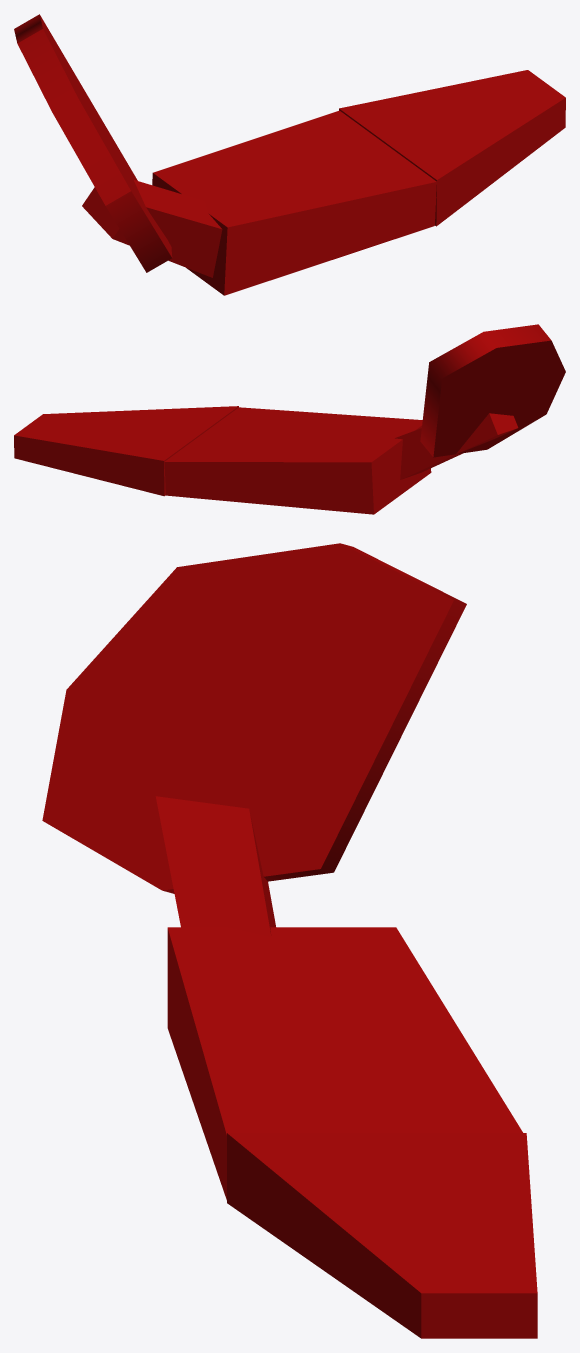
File: SM_Prop_Whale_Skeleton_01_Fin_02_Collision.glb
The picture shows the model from 3 angles, top to bottom: view 1: azimuth 30°, elevation 25°; view 2: azimuth 150°, elevation 25°; view 3: azimuth 270°, elevation 25°; orthographic projection. The views are drawn at different scales.
Parts seen in each view (by area): view 1: SM_Prop_Whale_Skeleton_01_Fin_02_Collision; view 2: SM_Prop_Whale_Skeleton_01_Fin_02_Collision; view 3: SM_Prop_Whale_Skeleton_01_Fin_02_Collision.
Boxes of the visible parts, box(x1,y1,x2,y2) form: SM_Prop_Whale_Skeleton_01_Fin_02_Collision: box(14, 14, 565, 295); SM_Prop_Whale_Skeleton_01_Fin_02_Collision: box(14, 324, 565, 514); SM_Prop_Whale_Skeleton_01_Fin_02_Collision: box(42, 543, 537, 1338).
Size of the model in its own units: 6.38 by 2.75 by 3.04.
